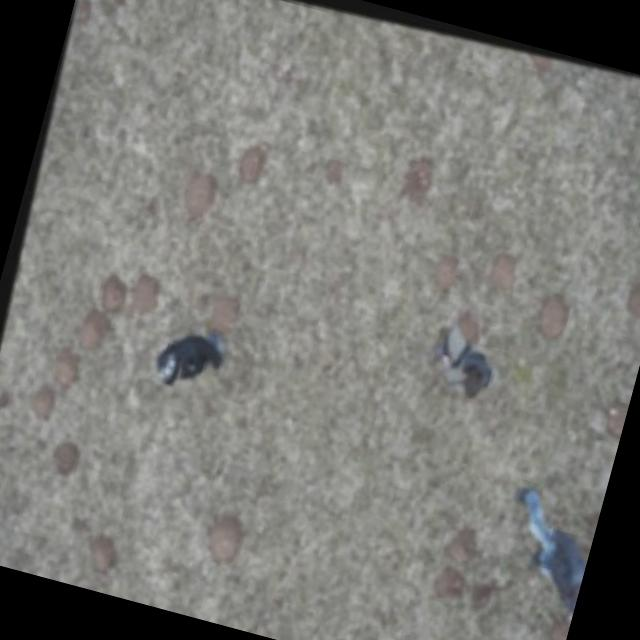Person: (469, 471, 604, 639), (408, 312, 508, 410), (133, 308, 234, 399)
